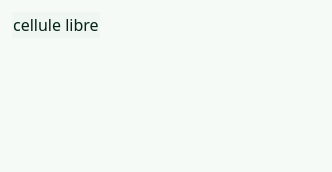
Test: ClickableTableRow › ouvre la fiche au clic sur une cellule simple
Click the link "cellule libre": click(56, 25) x1=12 y1=12 x2=100 y2=38
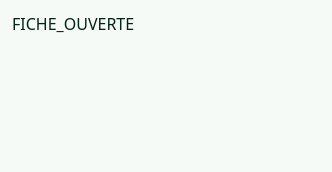
Result: the text "FICHE_OUVERTE" is shown at x1=12 y1=13 x2=134 y2=35
